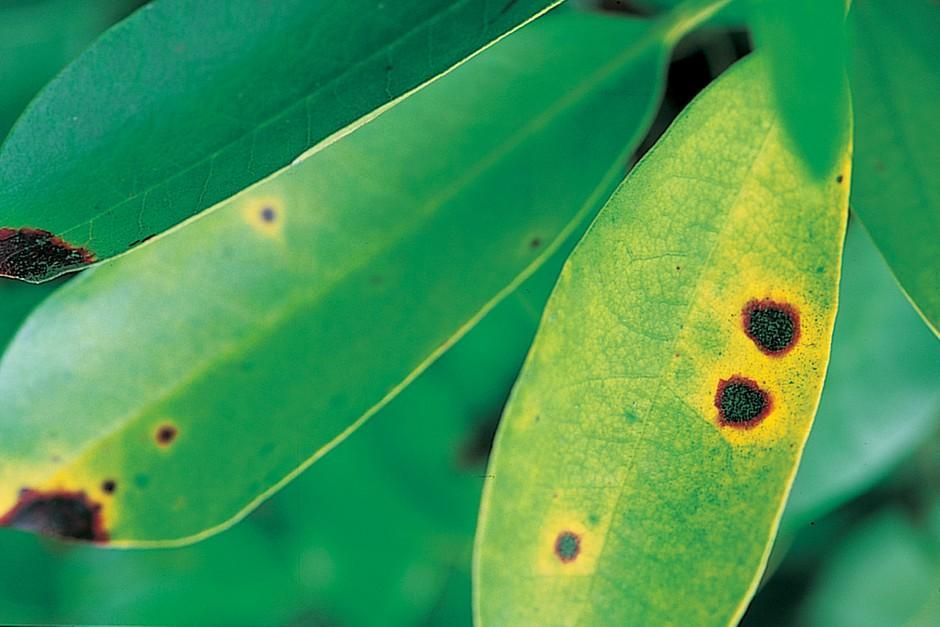black-spot: (679, 224, 818, 445)
